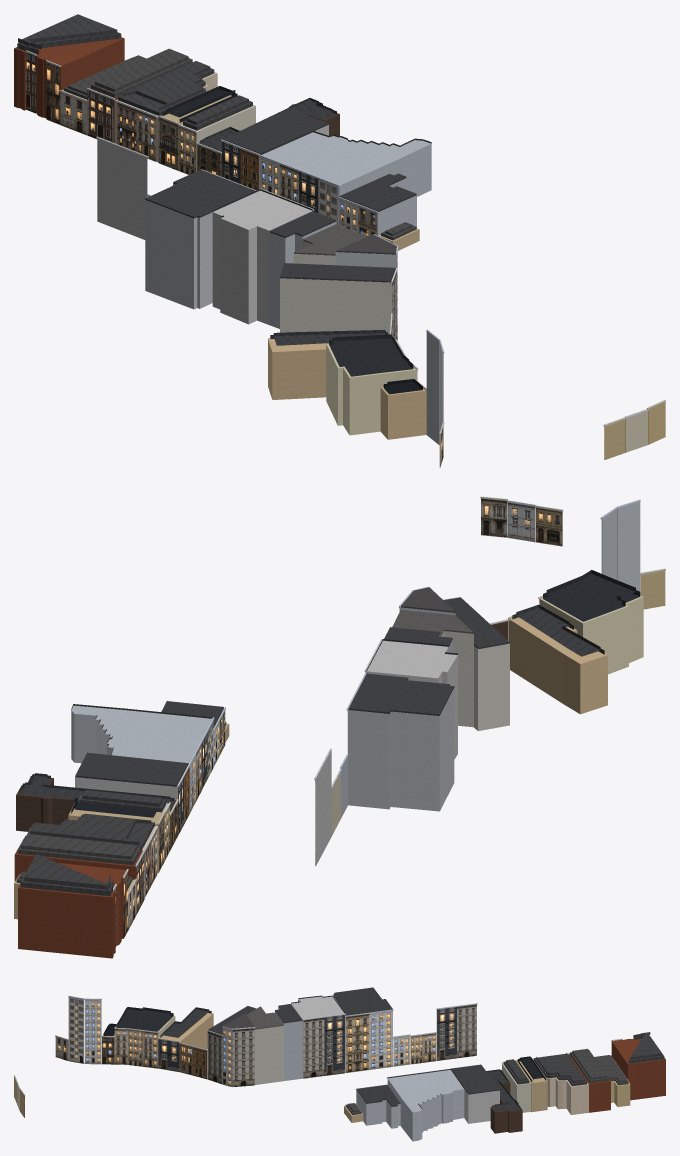
3 renders of one model, top to bottom at view 1: azimuth 30°, elevation 25°; view 2: azimuth 150°, elevation 25°; view 3: azimuth 270°, elevation 25°, orthographic. The views are drawn at different scales.
Parts seen in each view (by area): view 1: bldg_503059551, bldg_500208855, bldg_503059550, bldg_502144010, bldg_503059547_facade0, bldg_497227017, bldg_502144013, bldg_502144012, bldg_503059550_roof, bldg_500208855_facade0, bldg_500208857_roof, bldg_502144014 (+35 smaller); view 2: bldg_503059550, bldg_497227017, bldg_500208855, bldg_502144012, bldg_502144013, bldg_503059551, bldg_503059550_roof, bldg_502144010, bldg_500208857_roof, bldg_502144013_roof_b, bldg_497227022_roof_b, bldg_502144015_facade0 (+26 smaller); view 3: bldg_500208855, bldg_503059550_facade0, bldg_503059551_facade0, bldg_503059547_facade0, bldg_497227017, bldg_502144008, bldg_502144009_facade1, bldg_497227022, bldg_502144015_facade1, bldg_503059552, bldg_502144013_facade1, bldg_503059550_roof (+35 smaller).
Boxes of the visible parts, x1,y1,x2,y2 form: bldg_503059551: (212, 190, 312, 324); bldg_500208855: (262, 132, 431, 224); bldg_503059550: (145, 183, 212, 309); bldg_502144010: (280, 278, 391, 334); bldg_503059547_facade0: (96, 136, 148, 239); bldg_497227017: (14, 37, 124, 118); bldg_502144013: (326, 344, 416, 435); bldg_502144012: (268, 338, 328, 399); bldg_503059550_roof: (145, 169, 255, 218); bldg_500208855_facade0: (258, 154, 339, 224); bldg_500208857_roof: (222, 108, 328, 153); bldg_502144014: (380, 387, 426, 439); bldg_503059550: (348, 688, 454, 811); bldg_497227017: (18, 863, 126, 958); bldg_500208855: (71, 705, 211, 763); bldg_502144012: (509, 617, 607, 714); bldg_502144013: (539, 595, 643, 674); bldg_503059551: (366, 640, 457, 759); bldg_503059550_roof: (348, 673, 454, 715); bldg_502144010: (474, 643, 509, 730); bldg_500208857_roof: (75, 752, 188, 786); bldg_502144013_roof_b: (546, 570, 635, 614); bldg_497227022_roof_b: (30, 813, 151, 845); bldg_502144015_facade0: (617, 499, 640, 591); bldg_500208855: (387, 1070, 464, 1141); bldg_503059550_facade0: (345, 1009, 393, 1072); bldg_503059551_facade0: (302, 1013, 345, 1078); bldg_503059547_facade0: (436, 1003, 477, 1060); bldg_497227017: (611, 1038, 665, 1100); bldg_502144008: (255, 1025, 283, 1084); bldg_502144009_facade1: (232, 1027, 255, 1087); bldg_497227022: (533, 1059, 588, 1114); bldg_502144015_facade1: (84, 998, 101, 1064); bldg_503059552: (275, 1007, 302, 1080); bldg_502144013_facade1: (127, 1028, 158, 1068); bldg_503059550_roof: (333, 987, 392, 1015).
Size of the model in its own units: 95.49 by 28.67 by 259.
Materials: 62 (28 with a texture image).
